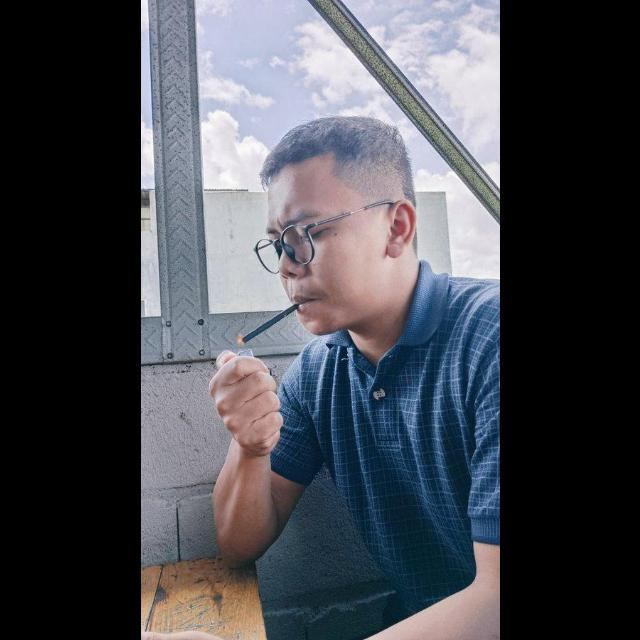rokok: (240, 300, 300, 342)
